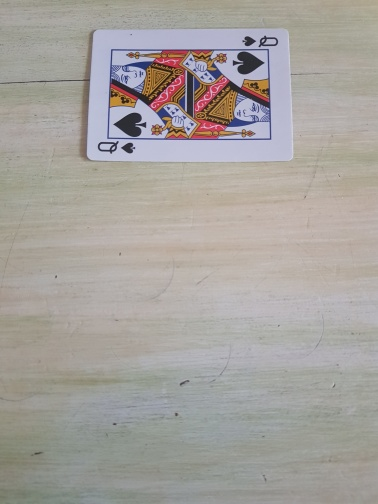queen: (84, 26, 295, 163)
